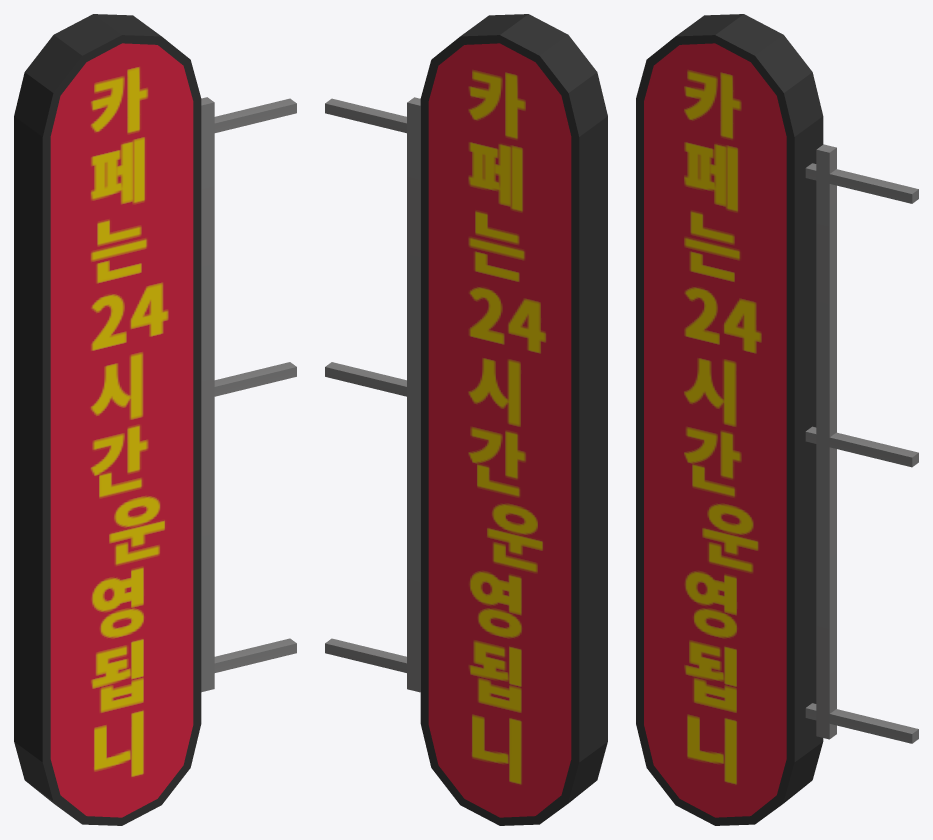
The model's file is B02_Enseigne_E_01.fbx.
3 views of the same model, side by side, from view 1: azimuth 30°, elevation 25°; view 2: azimuth 150°, elevation 25°; view 3: azimuth 330°, elevation 25° (orthographic).
Parts seen in each view (by area): view 1: B02_Enseigne_E_01; view 2: B02_Enseigne_E_01; view 3: B02_Enseigne_E_01.
Part boxes in pixels (left/top/right/bottom): B02_Enseigne_E_01: left=14, top=14, right=296, bottom=825; B02_Enseigne_E_01: left=325, top=14, right=607, bottom=825; B02_Enseigne_E_01: left=636, top=14, right=918, bottom=825.
Size of the model in its own units: 312 by 890 by 58.69.
